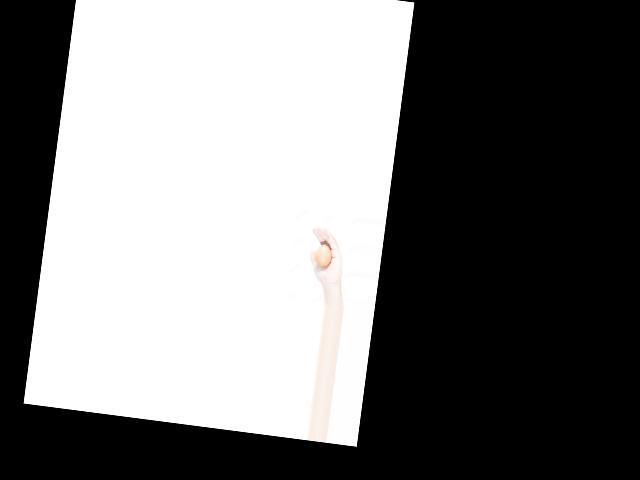egg: (314, 244, 333, 267)
